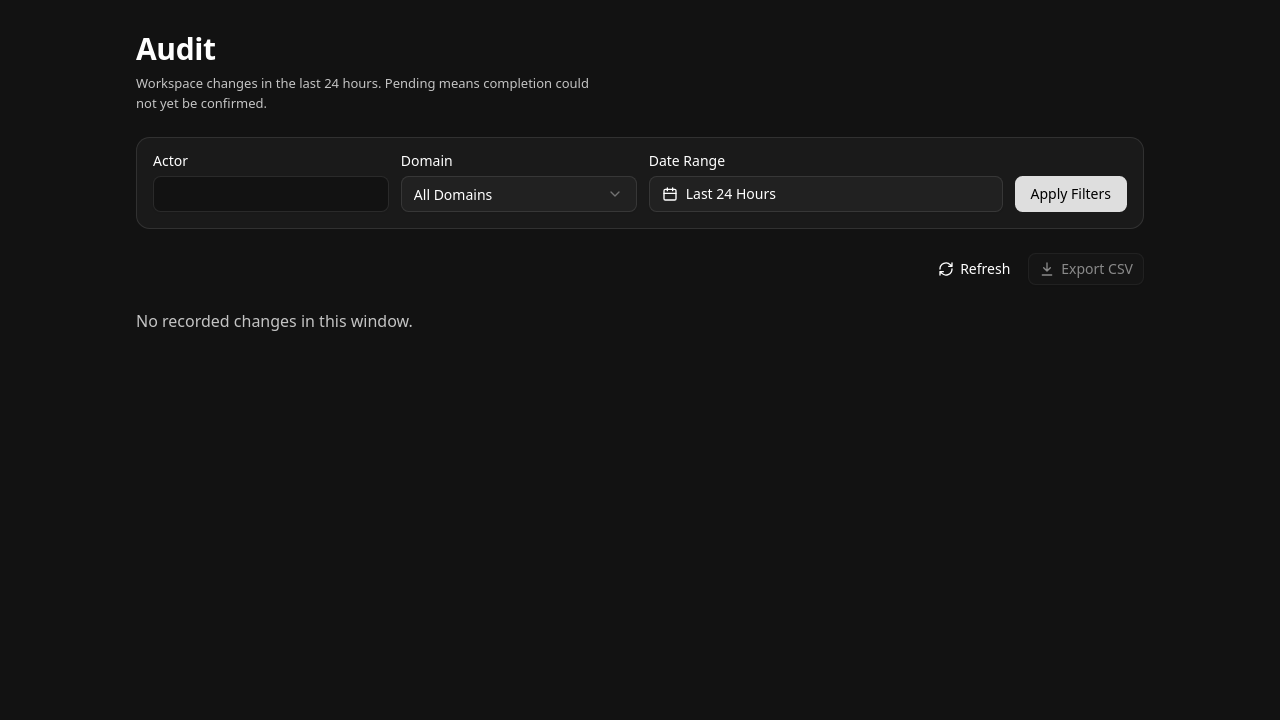
Test: Audit rejects reversed or overlong windows without fetching
Expected: the text "No recorded changes in this window." is shown, top-left (136, 310), bottom-right (413, 332)
Click the button with aria-label "Date Range".
click(731, 193)  # box top-left (649, 176), bottom-right (1002, 212)
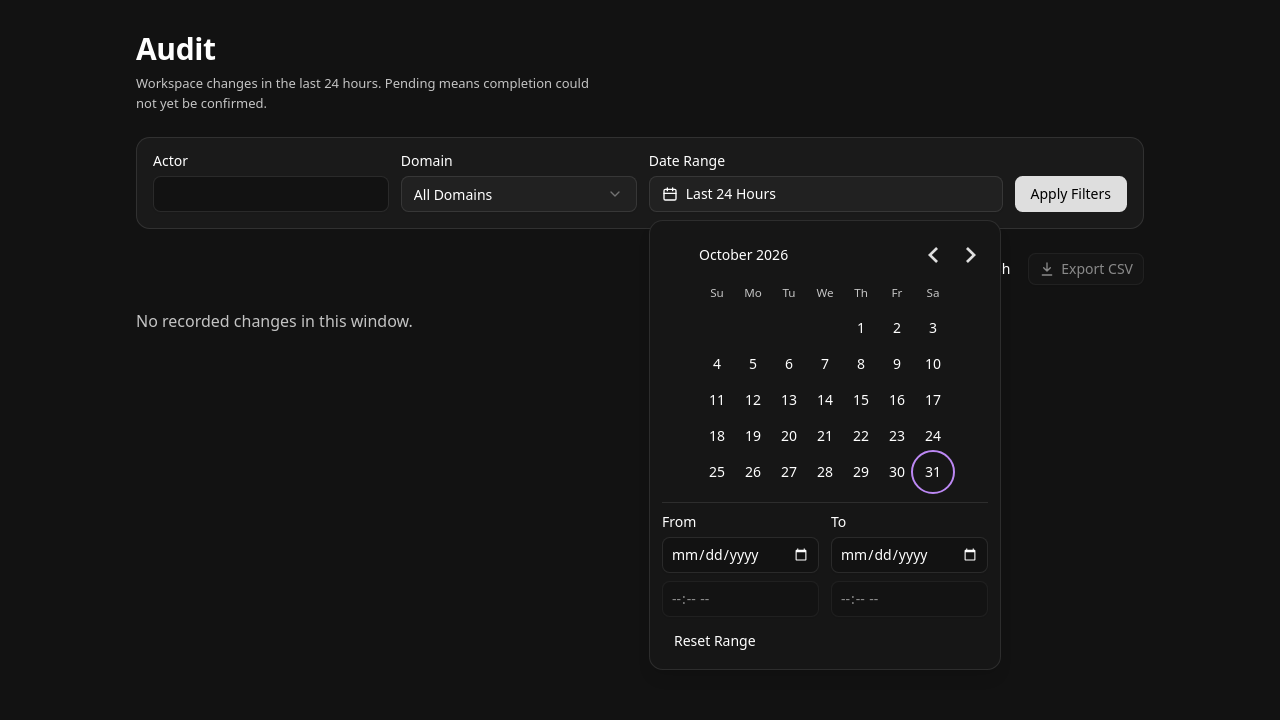
Type "2026-10-20" into the date field labelled "From".
click(740, 555); type("2026-10-20")  # box top-left (662, 537), bottom-right (819, 573)
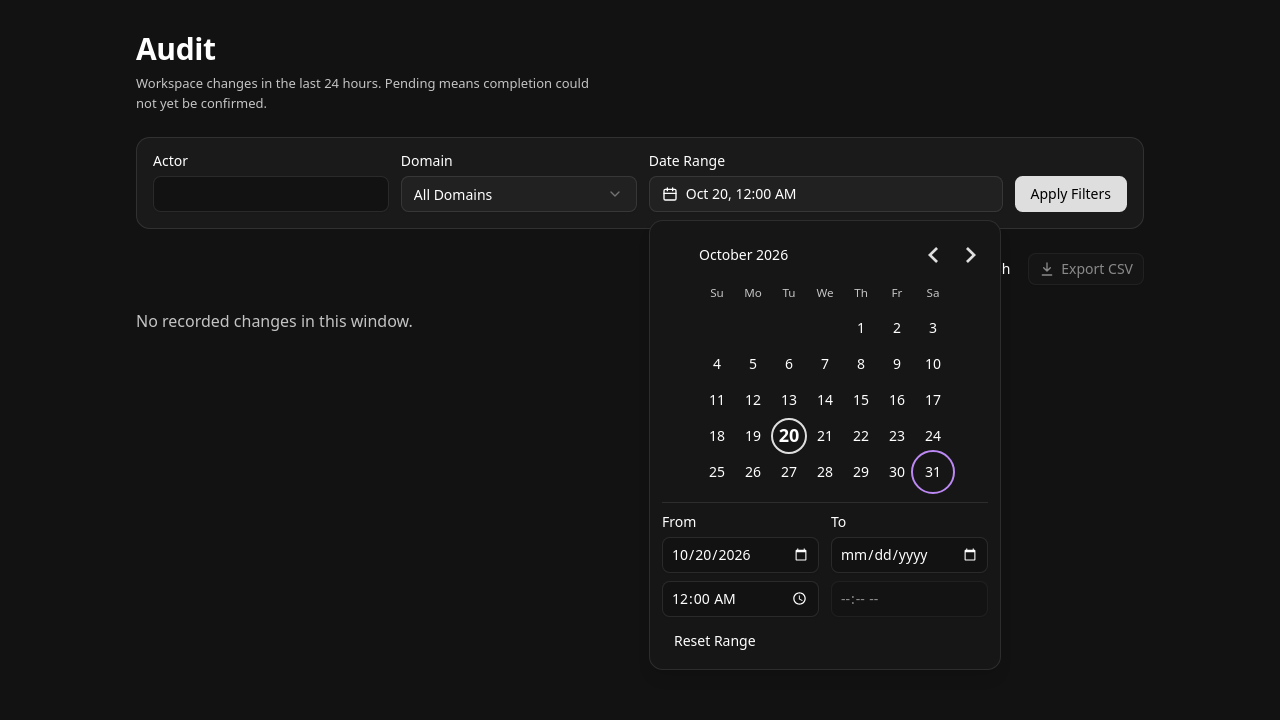
Type "2026-10-19" into the date field labelled "To".
click(910, 555); type("2026-10-19")  # box top-left (831, 537), bottom-right (988, 573)
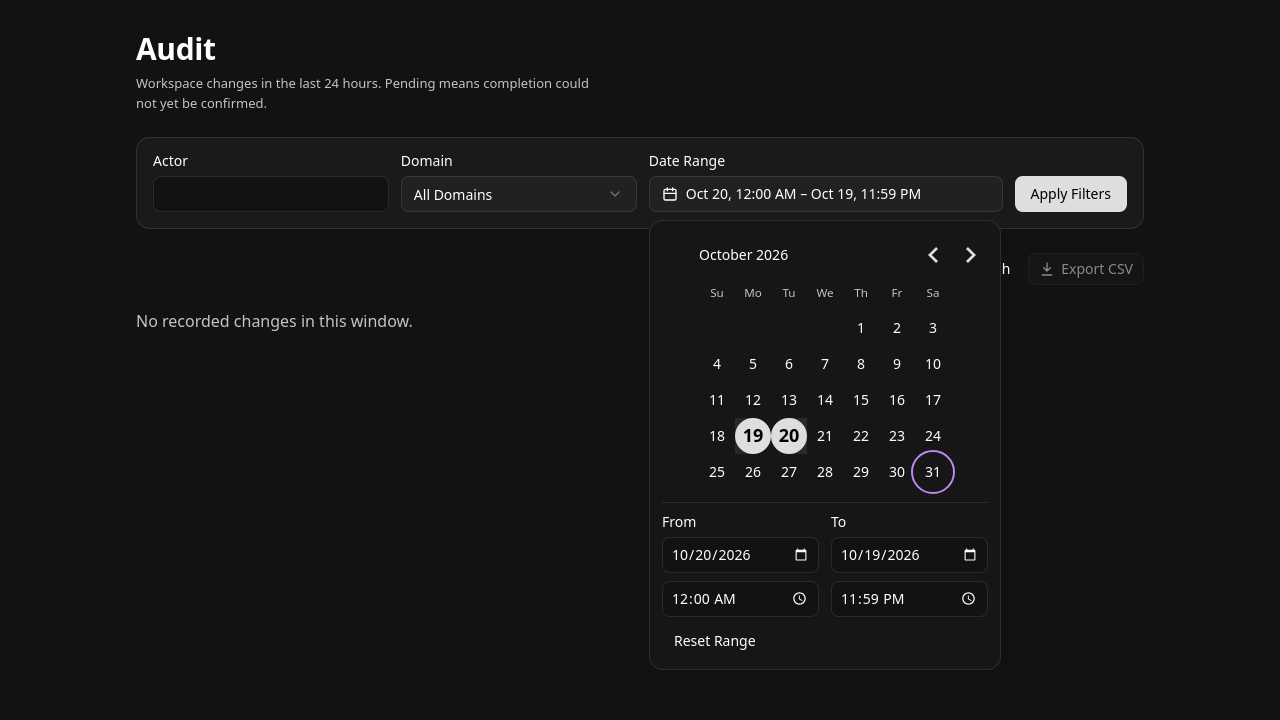
Click the button "Apply Filters".
click(1071, 194)  # box top-left (1014, 176), bottom-right (1127, 212)
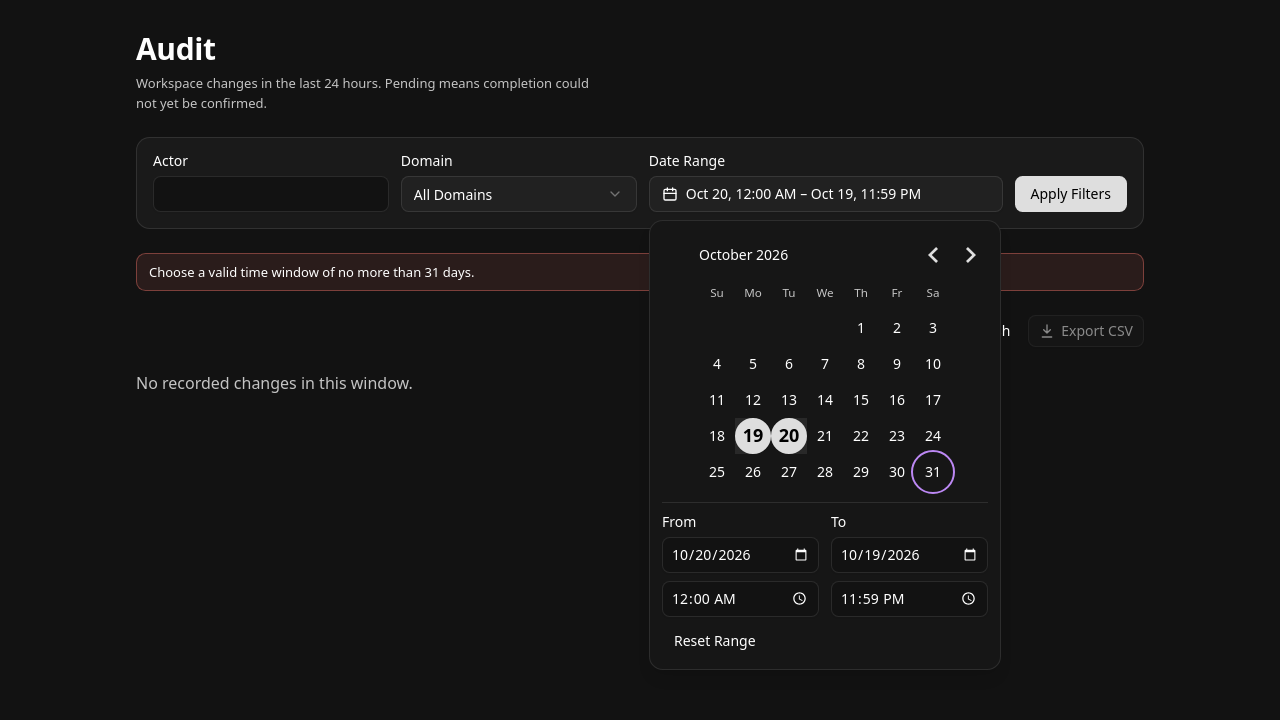
Now the text "Choose a valid time window of no more than 31 days." is shown, box top-left (136, 252), bottom-right (1144, 290)
Type "2026-12-19" into the date field labelled "To".
click(910, 555); type("2026-12-19")  # box top-left (831, 537), bottom-right (988, 573)
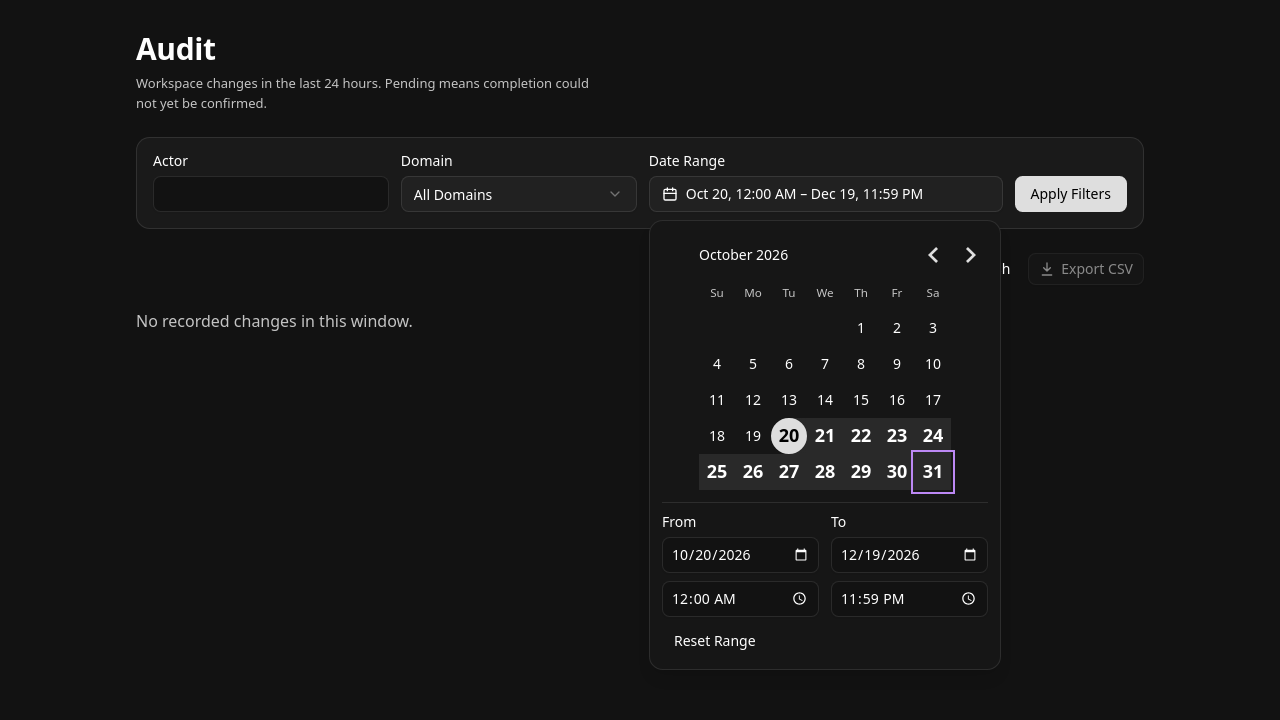
Click the button "Apply Filters".
click(1071, 194)  # box top-left (1014, 176), bottom-right (1127, 212)
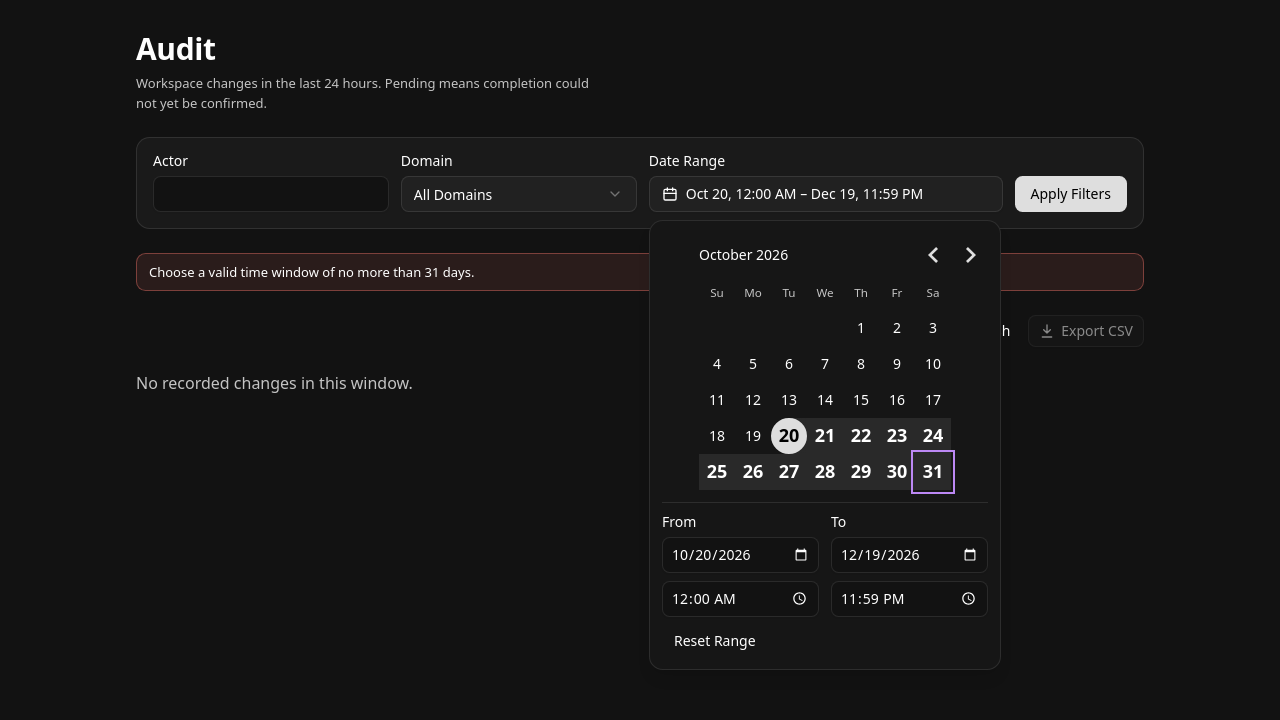
Now the text "Choose a valid time window of no more than 31 days." is shown, box top-left (136, 252), bottom-right (1144, 290)
